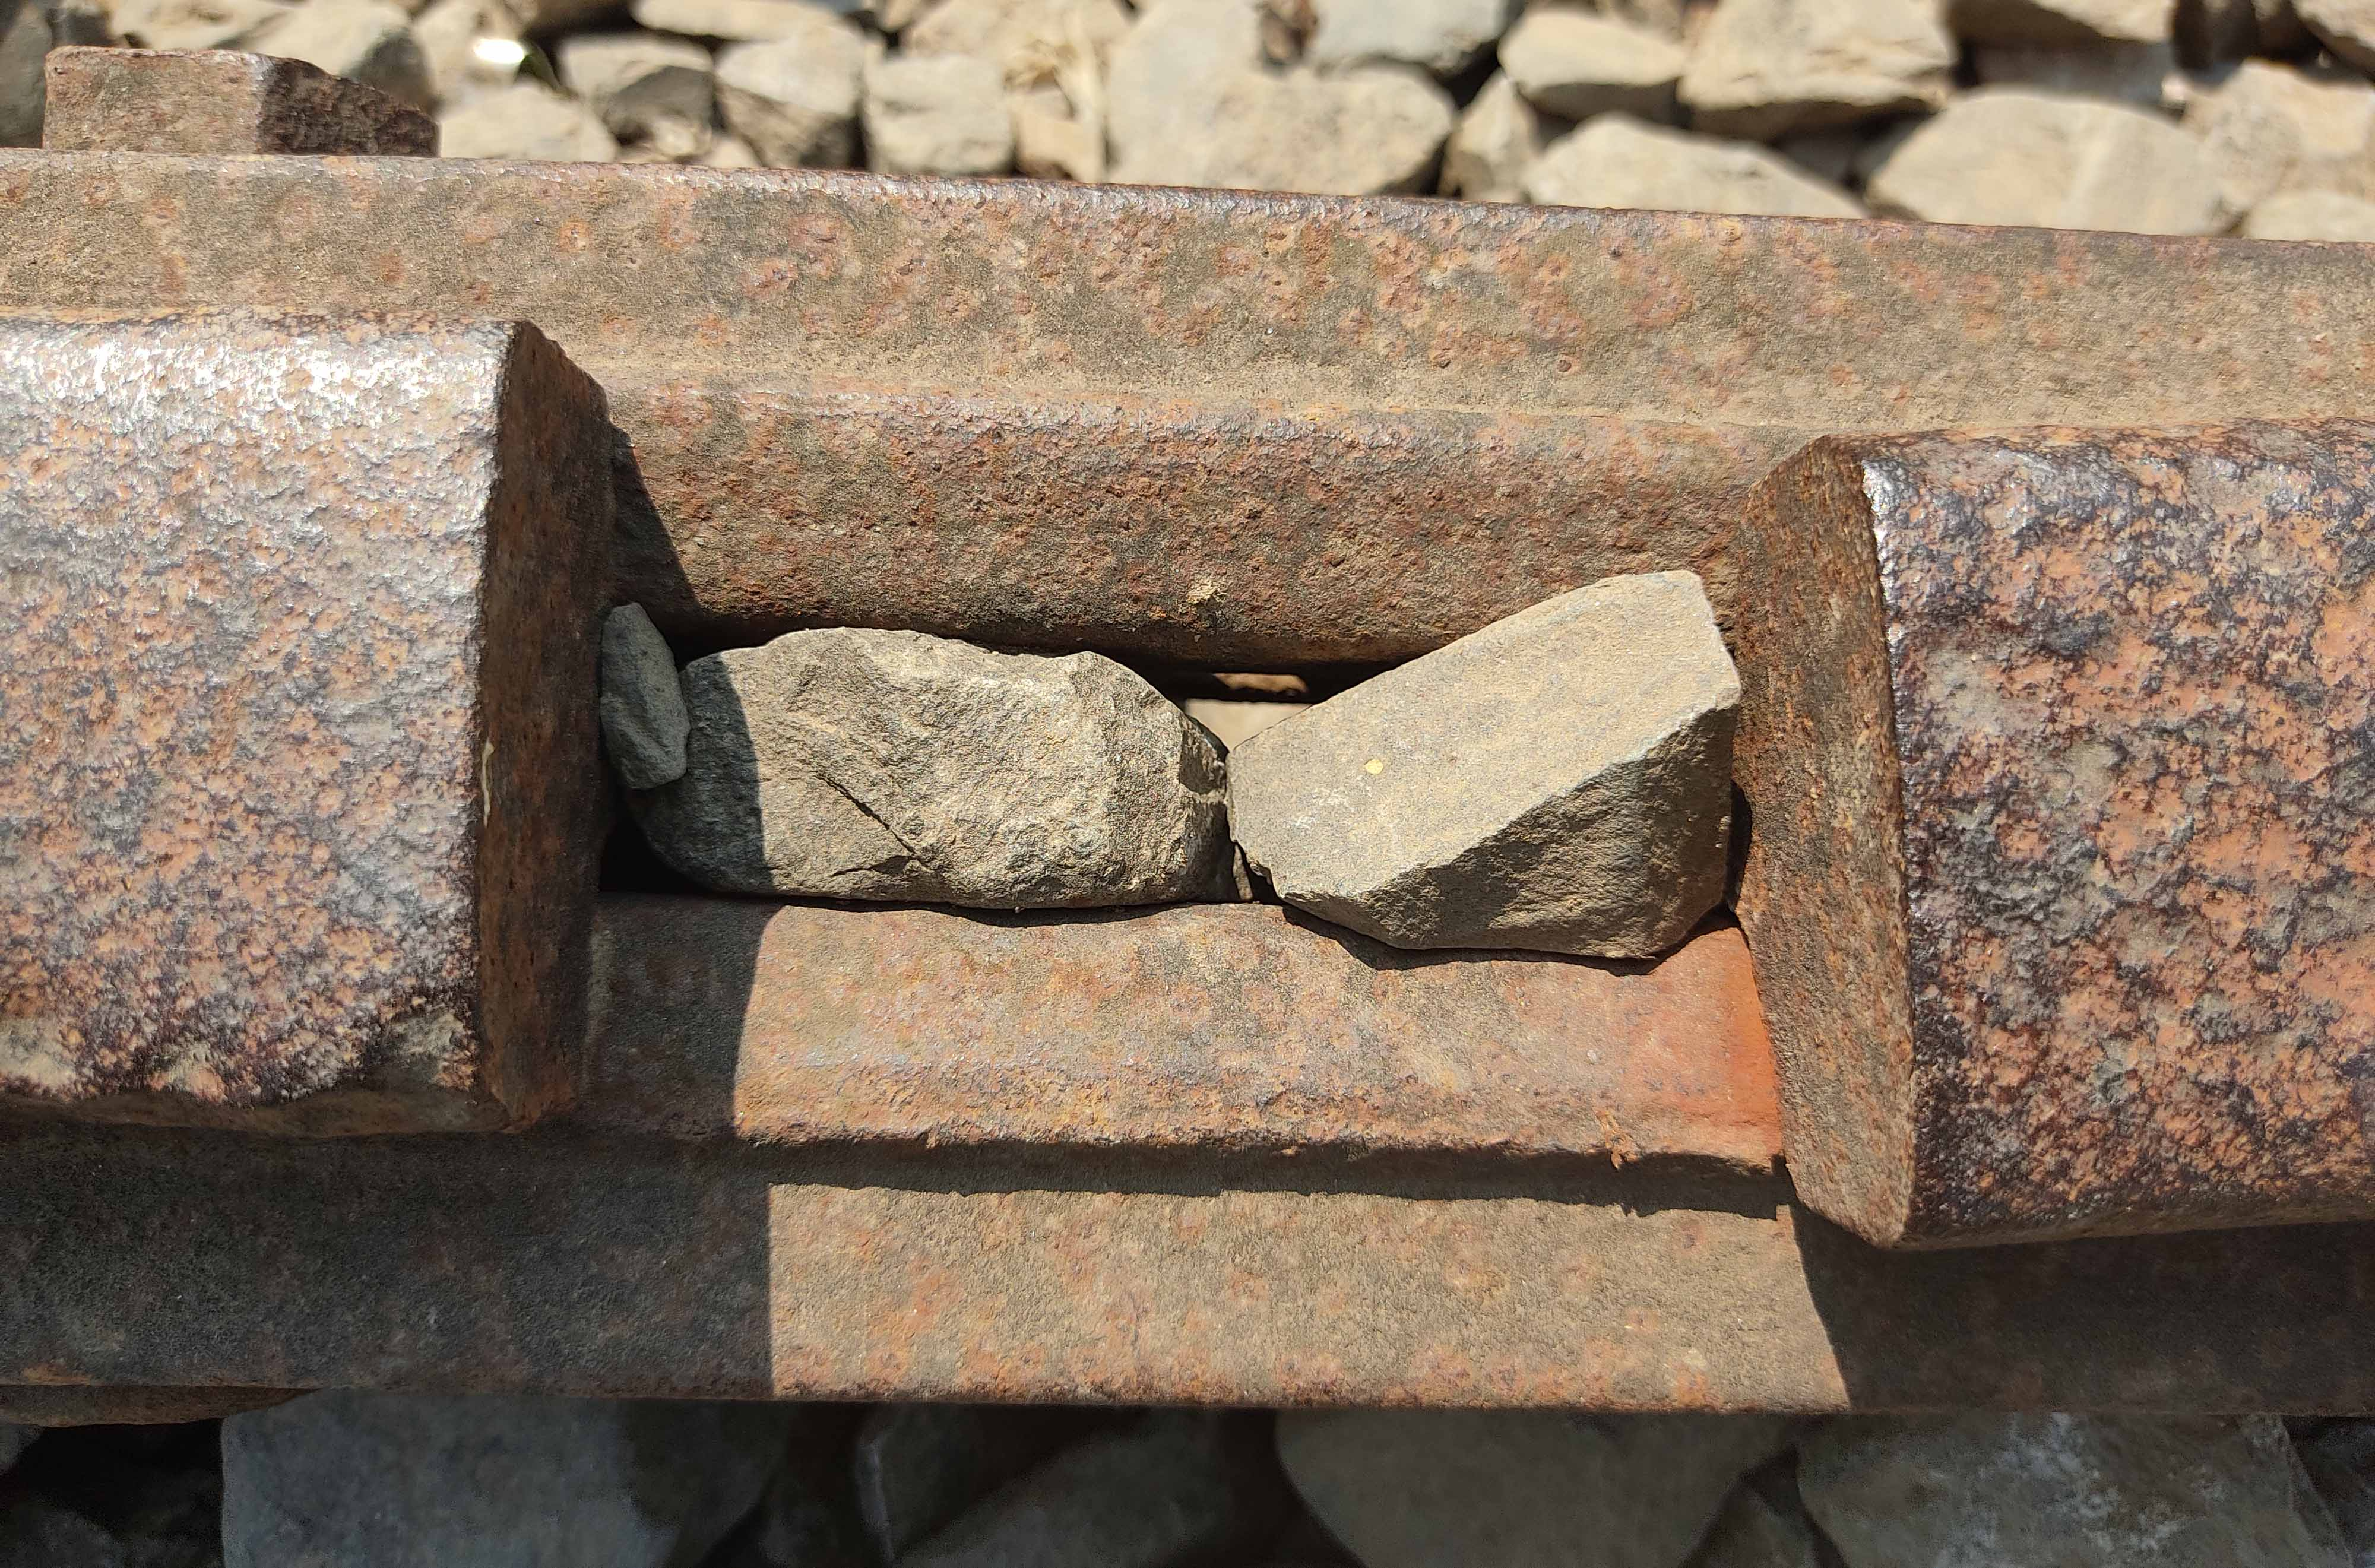error2: (401, 219, 1936, 1246)
